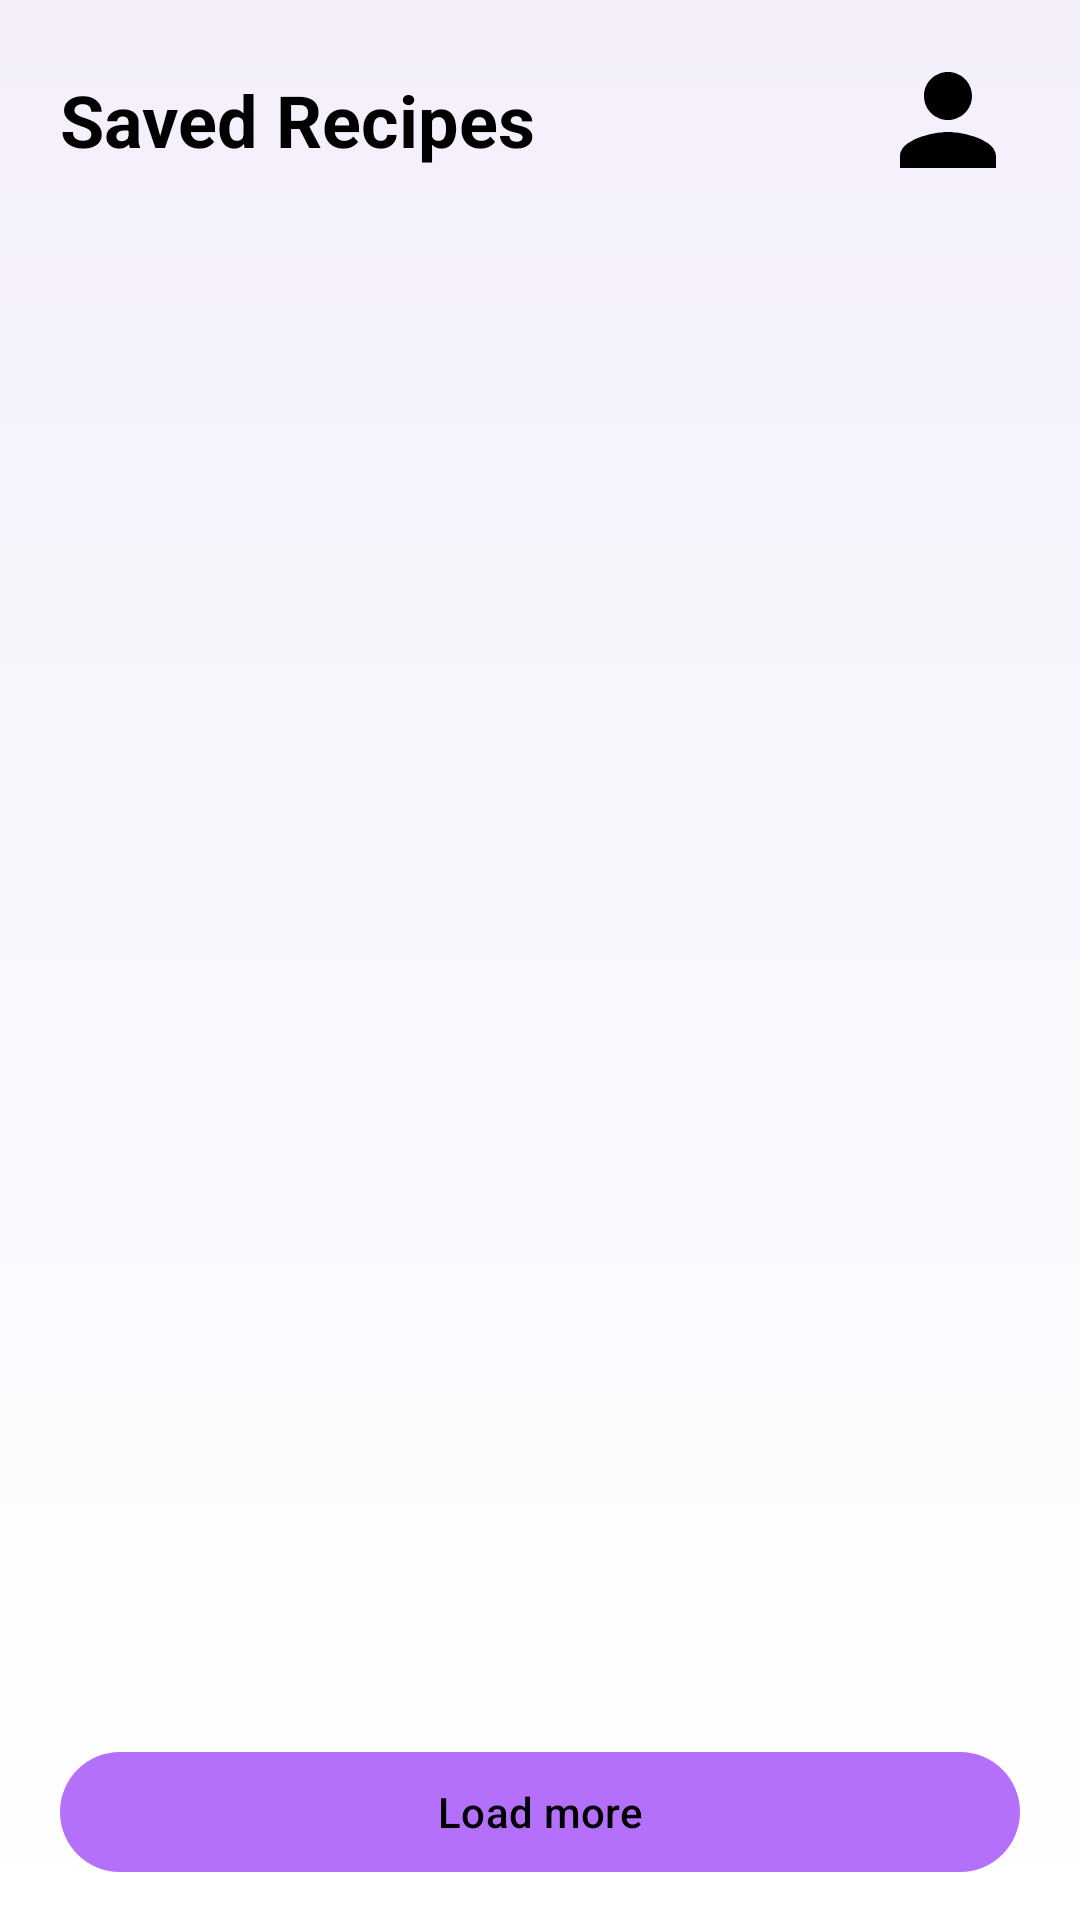

Icon click points for this 1080 x 1920 phone screenshot, format (x=x, y=y):
Profile: (x=948, y=120)
